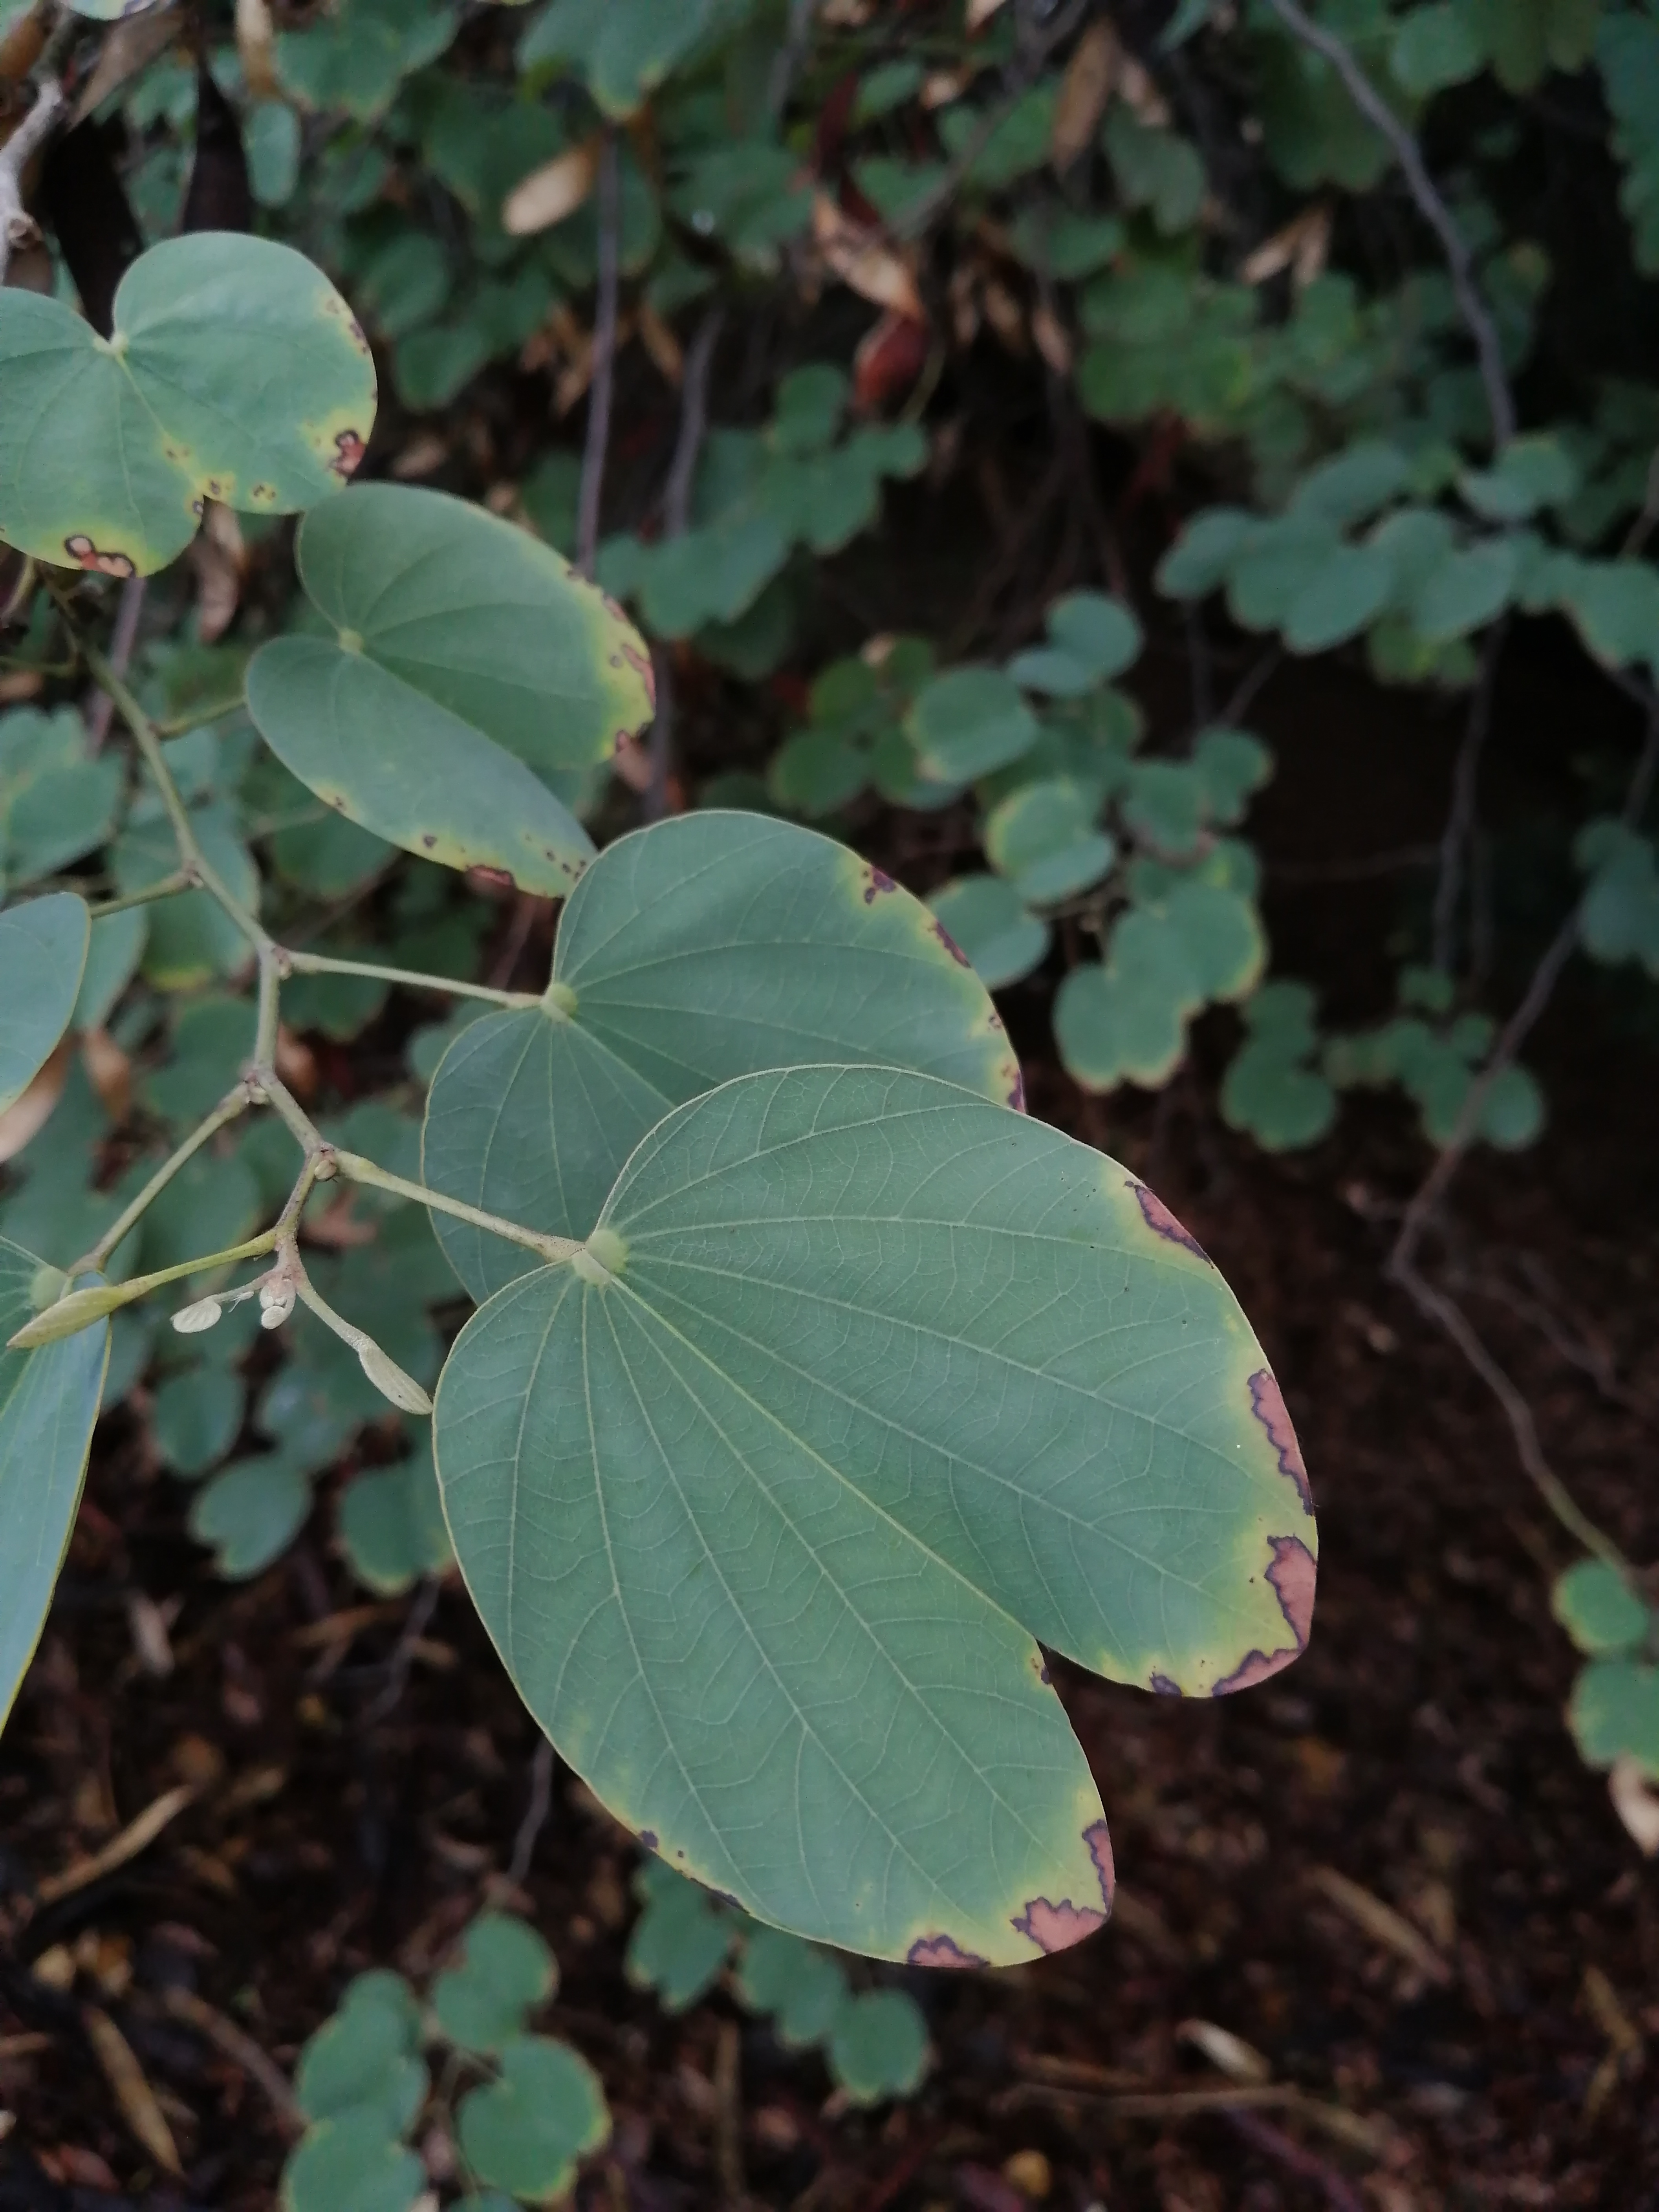nothealthy: (413, 1017, 1349, 1980), (408, 801, 1032, 1378), (244, 469, 681, 900), (0, 225, 387, 585)
